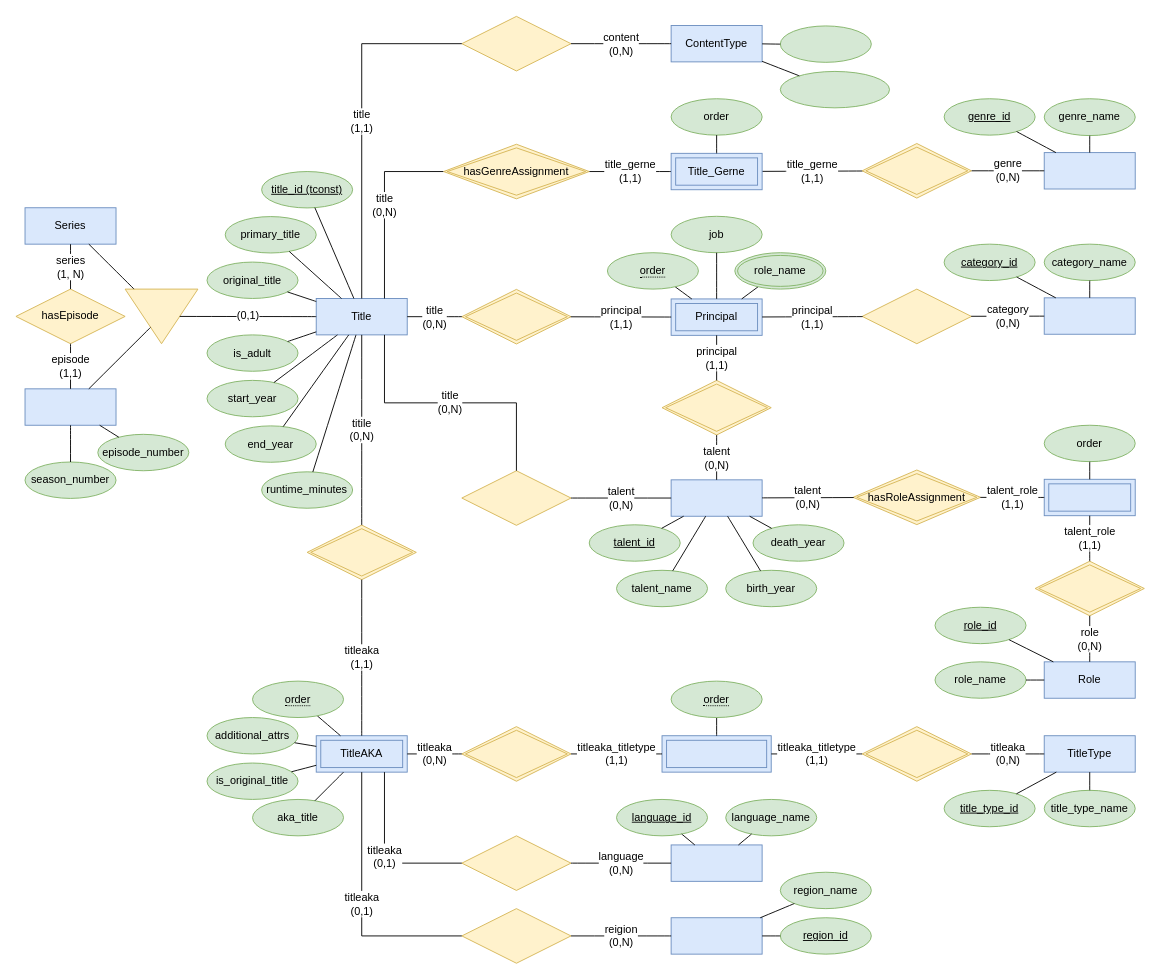
This 1160x979 diagram has some shape labels left out. The shapes that lost their labels are listed below. From the top down, each one's centre as x and y in pixels, then its label:
At point (516, 43): "hasContentType".
At point (825, 43): "content_type_id".
At point (834, 89): "content_type_name".
At point (916, 170): "assignedGenre".
At point (1089, 170): "Genre".
At point (161, 316): "IS A".
At point (516, 316): "hasPrincipal".
At point (916, 316): "categorizedAs".
At point (1089, 315): "Category".
At point (70, 406): "Episode".
At point (716, 407): "refersToTalent".
At point (516, 497): "knownForTitle".
At point (716, 497): "Talent".
At point (1089, 497): "Talent_Role".
At point (361, 552): "hasAKA".
At point (1089, 588): "assignedRole".
At point (516, 753): "hasAKAType Assignment".
At point (716, 753): "TitleAKA_TitleType".
At point (916, 753): "assignedTitleType".
At point (516, 862): "akaInLanguage".
At point (716, 862): "Language".
At point (516, 935): "akaInRegion".
At point (716, 935): "Region".
